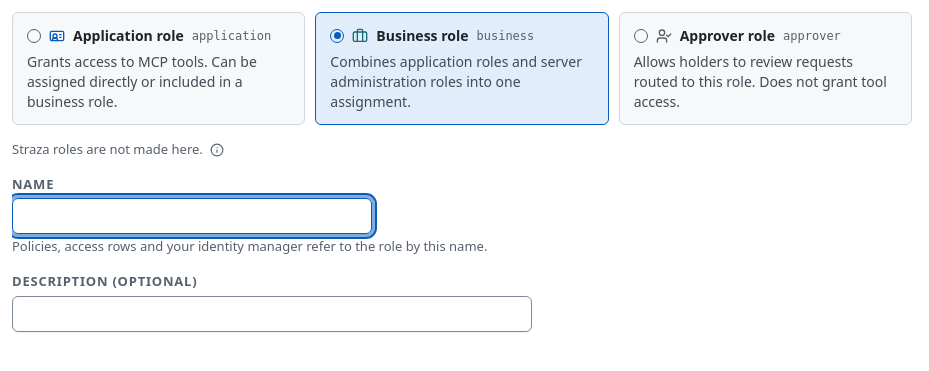
Test: the name check against a server's prefix › keeps the whole-name near check for a business role
The image size is (929, 371).
Type "demo-team" into the field labelled "Name" at (192, 216), box [12,198,372,234]
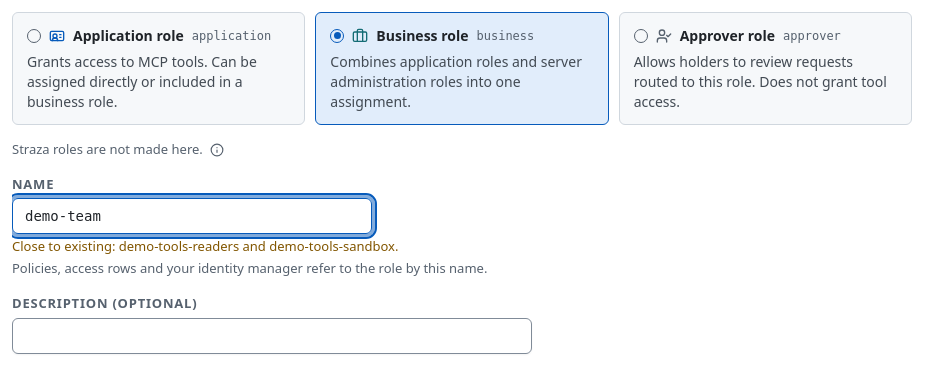
expect the text "Close to existing: demo-tools-readers and demo-tools-sandbox." is shown: met, box [12,237,398,255]
